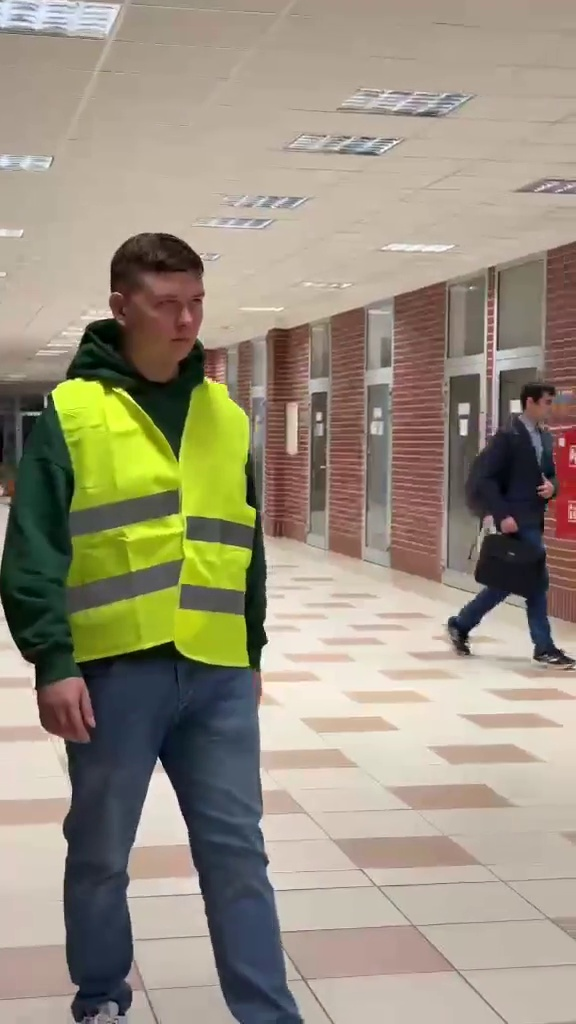no vest: (452, 372, 566, 676)
vest: (7, 241, 311, 997)
